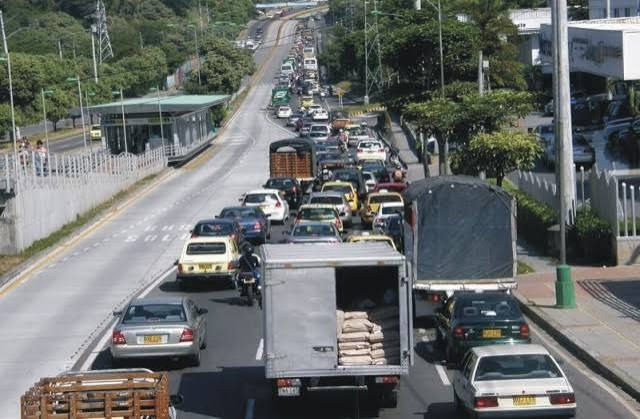car: (94, 59, 520, 418), (398, 170, 520, 353), (456, 350, 575, 417), (19, 374, 186, 419), (101, 299, 203, 367), (179, 220, 248, 282), (178, 228, 243, 282), (200, 205, 267, 243), (217, 197, 278, 237), (273, 104, 295, 118)
